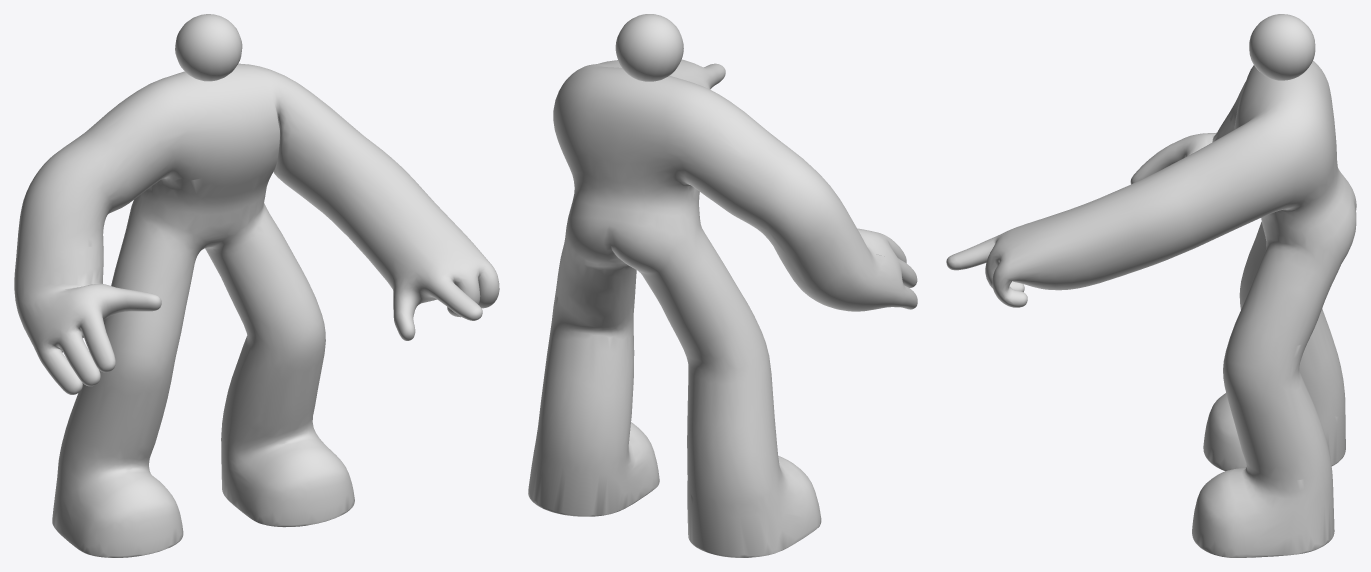
The model's file is kv2-man3.gltf.
3 views of the same model, side by side, from view 1: azimuth 30°, elevation 25°; view 2: azimuth 150°, elevation 25°; view 3: azimuth 270°, elevation 25° (orthographic). The views are drawn at different scales.
Visible parts, largest first — view 1: Pose_3; view 2: Pose_3; view 3: Pose_3.
Boxes of the visible parts, box(x1,y1,x2,y2) form: Pose_3: box(14, 14, 499, 557); Pose_3: box(528, 14, 917, 557); Pose_3: box(946, 14, 1356, 557).
Size of the model in its own units: 24.27 by 31.64 by 24.23.
Materials: 1 (1 with a texture image).
